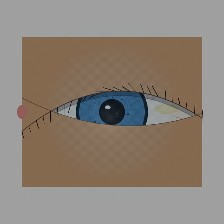pinguecula_lesion: (142, 89, 191, 129)
